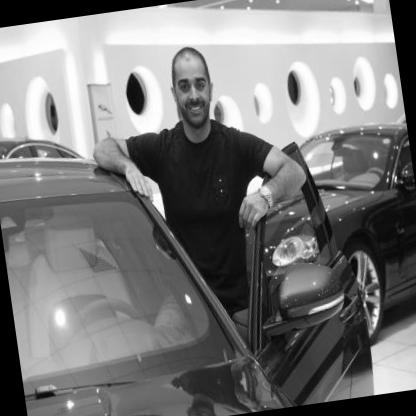car: (1, 117, 291, 416), (236, 103, 416, 364)
